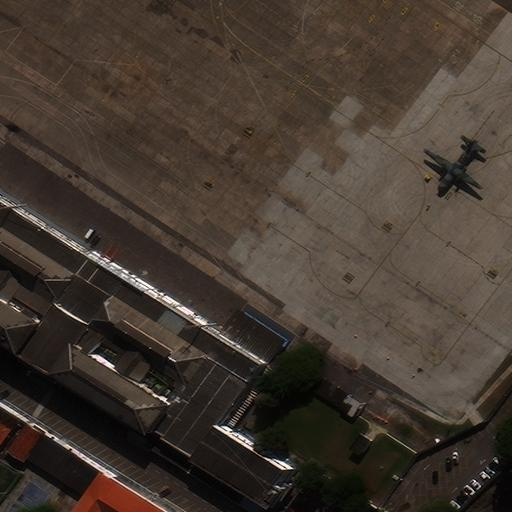Military Transport: (422, 140, 481, 198)
